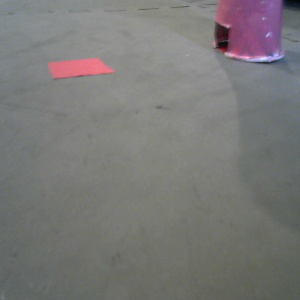right: (209, 1, 289, 65)
